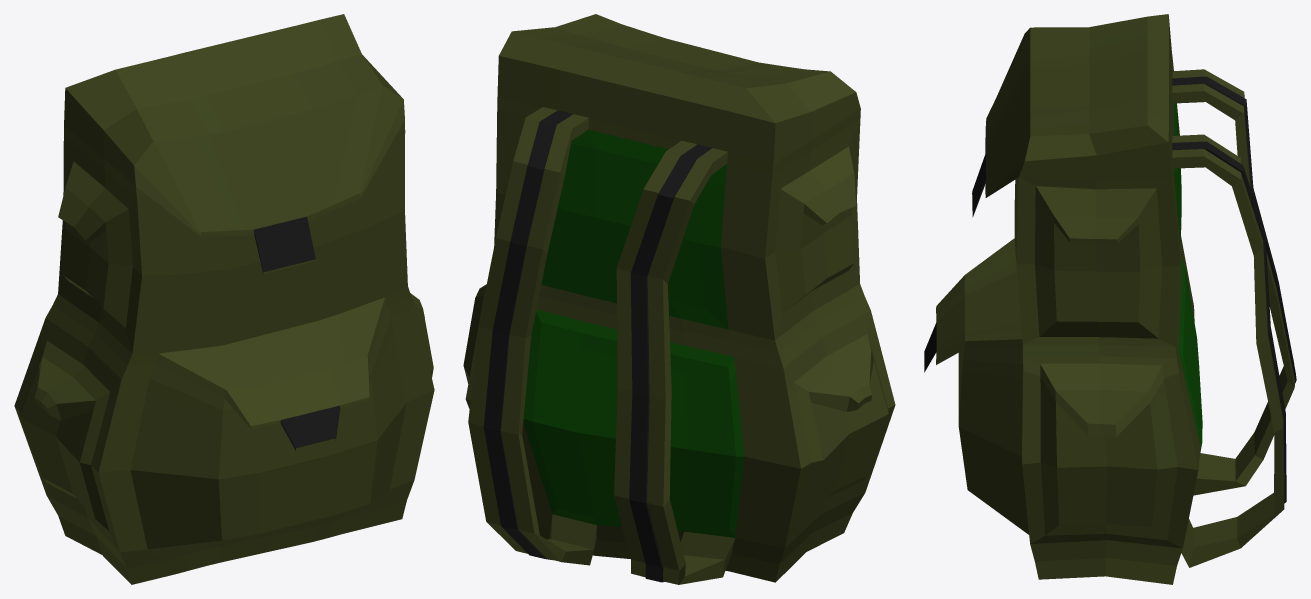
The model's file is Backpack.fbx.
The picture shows the model from 3 angles, left to right: view 1: azimuth 30°, elevation 25°; view 2: azimuth 150°, elevation 25°; view 3: azimuth 270°, elevation 25°; orthographic projection. The views are drawn at different scales.
Visible parts, largest first — view 1: Backpack; view 2: Backpack; view 3: Backpack.
Part boxes in pixels (bbox=[...]): Backpack: bbox=[14, 14, 434, 584]; Backpack: bbox=[463, 14, 895, 584]; Backpack: bbox=[924, 14, 1296, 584].
Bounding box in the file's own units: 271 × 332 × 239.
